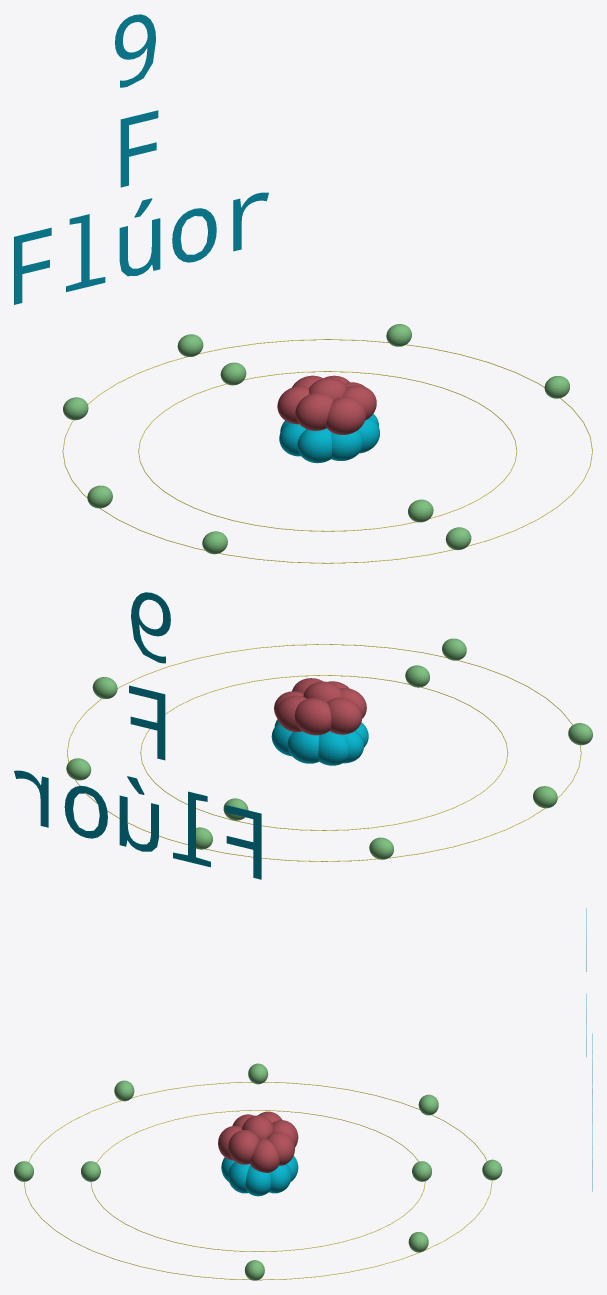
File: 09-FLUOR-ANDROID.glb
The picture shows the model from 3 angles, top to bottom: view 1: azimuth 30°, elevation 25°; view 2: azimuth 150°, elevation 25°; view 3: azimuth 270°, elevation 25°; orthographic projection. The views are drawn at different scales.
Parts seen in each view (by area): view 1: Mesh_Mesh_head_geo.001_lambert2SG.001; view 2: Mesh_Mesh_head_geo.001_lambert2SG.001; view 3: Mesh_Mesh_head_geo.001_lambert2SG.001.
Part boxes in pixels (box(x1,y1,x2,y2)): Mesh_Mesh_head_geo.001_lambert2SG.001: box(14, 14, 592, 563); Mesh_Mesh_head_geo.001_lambert2SG.001: box(14, 592, 592, 879); Mesh_Mesh_head_geo.001_lambert2SG.001: box(14, 908, 592, 1280).
Bounding box in the file's own units: 146 × 88.33 × 173.
